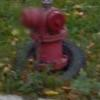Hydrant: (15, 0, 75, 77)
